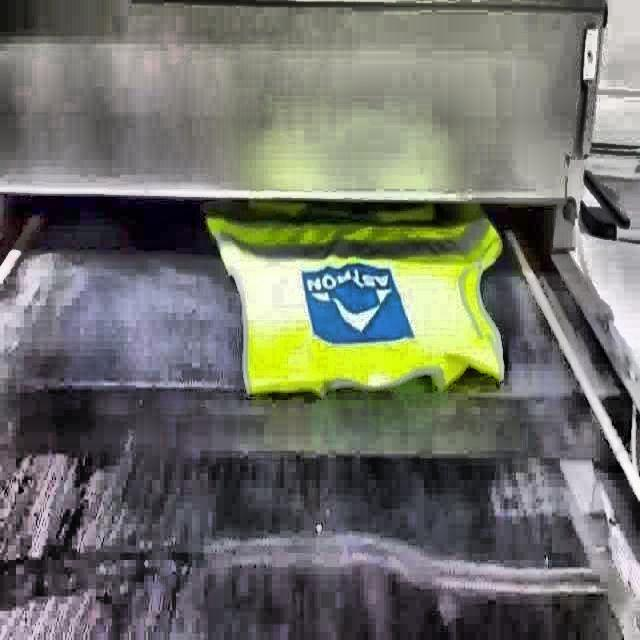safety_jacket: (205, 208, 507, 402)
